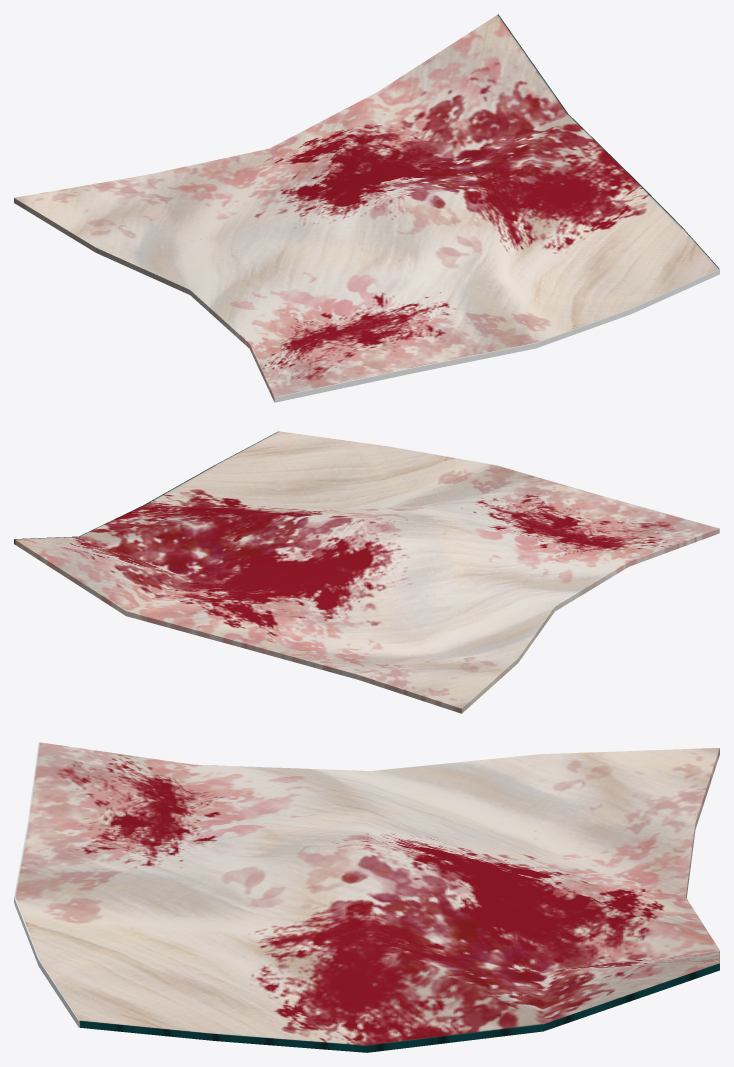
The model's file is Lenço.fbx.
3 views of the same model, one above another, from view 1: azimuth 30°, elevation 25°; view 2: azimuth 150°, elevation 25°; view 3: azimuth 270°, elevation 25° (orthographic). The views are drawn at different scales.
Visible parts, largest first — view 1: Lenco; view 2: Lenco; view 3: Lenco.
Boxes of the visible parts, x1,y1,x2,y2 form: Lenco: (14, 14, 719, 402); Lenco: (14, 431, 719, 713); Lenco: (14, 742, 719, 1052).
Size of the model in its own units: 111 by 18.98 by 109.
